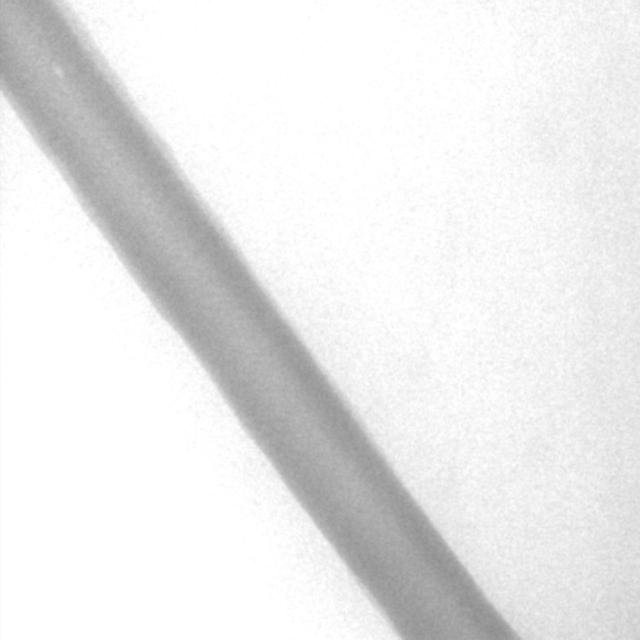air-hole: (52, 66, 62, 79)
